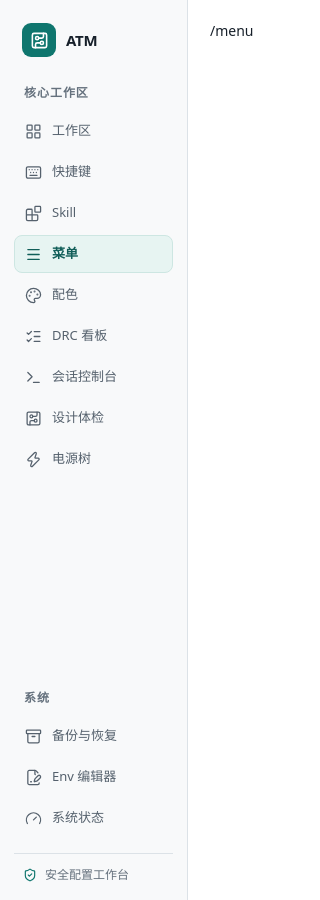
Test: workspace navigation preload › runs page leave guards before sidebar navigation
The image size is (320, 900).
Step 1. Click the link "Skill" → (51, 212), box [25,203,76,222]
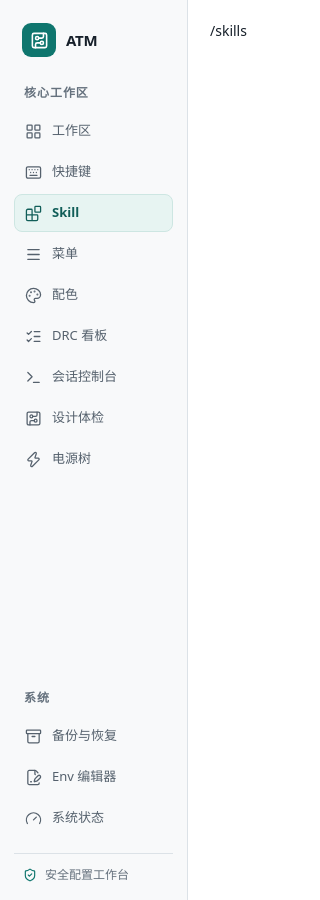
Now the text with test id "location" reads "/skills", box [210,21,247,40]
